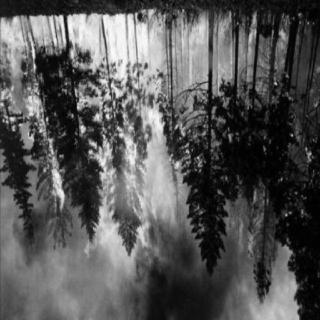Fire: (1, 7, 320, 310)
